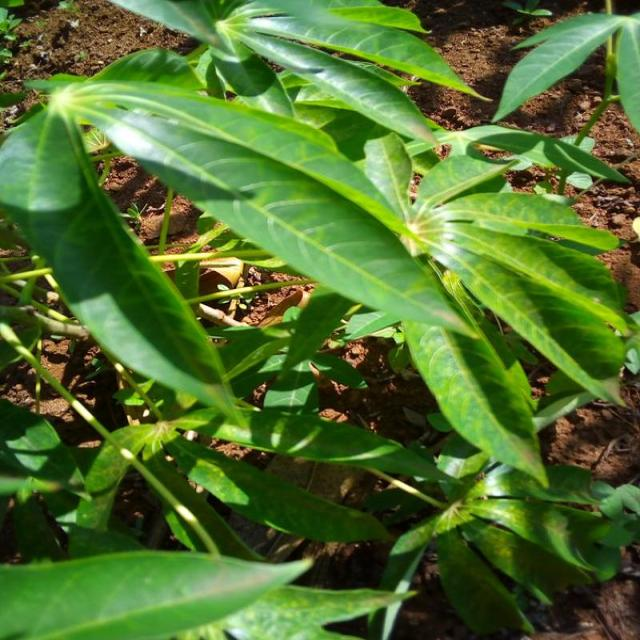cassava leaf: (1, 2, 637, 636)
